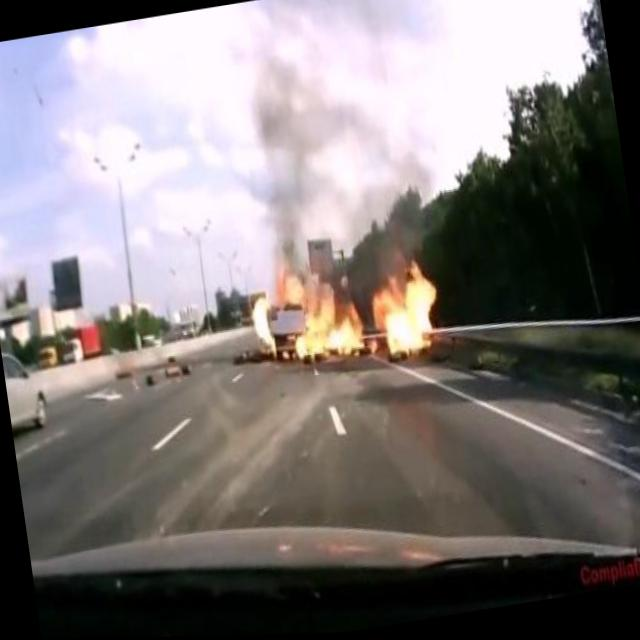fire: (280, 233, 450, 384), (247, 286, 278, 355)
